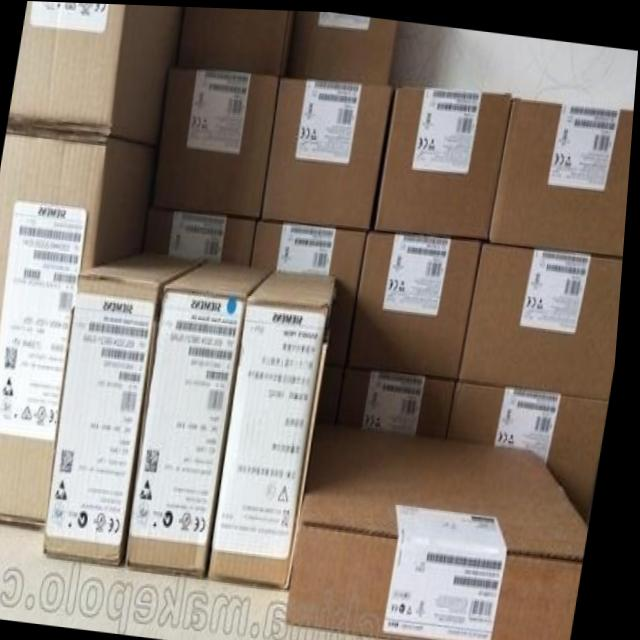box: (293, 422, 595, 640), (0, 127, 160, 531), (51, 249, 206, 561), (132, 258, 273, 580), (215, 266, 340, 588), (463, 239, 626, 396), (9, 1, 184, 140), (453, 381, 614, 521), (492, 95, 635, 251), (378, 84, 513, 235), (153, 66, 280, 217), (264, 77, 392, 226), (354, 228, 484, 374), (255, 221, 369, 361), (285, 9, 396, 81), (178, 5, 292, 73), (343, 367, 461, 431), (148, 206, 259, 263)
